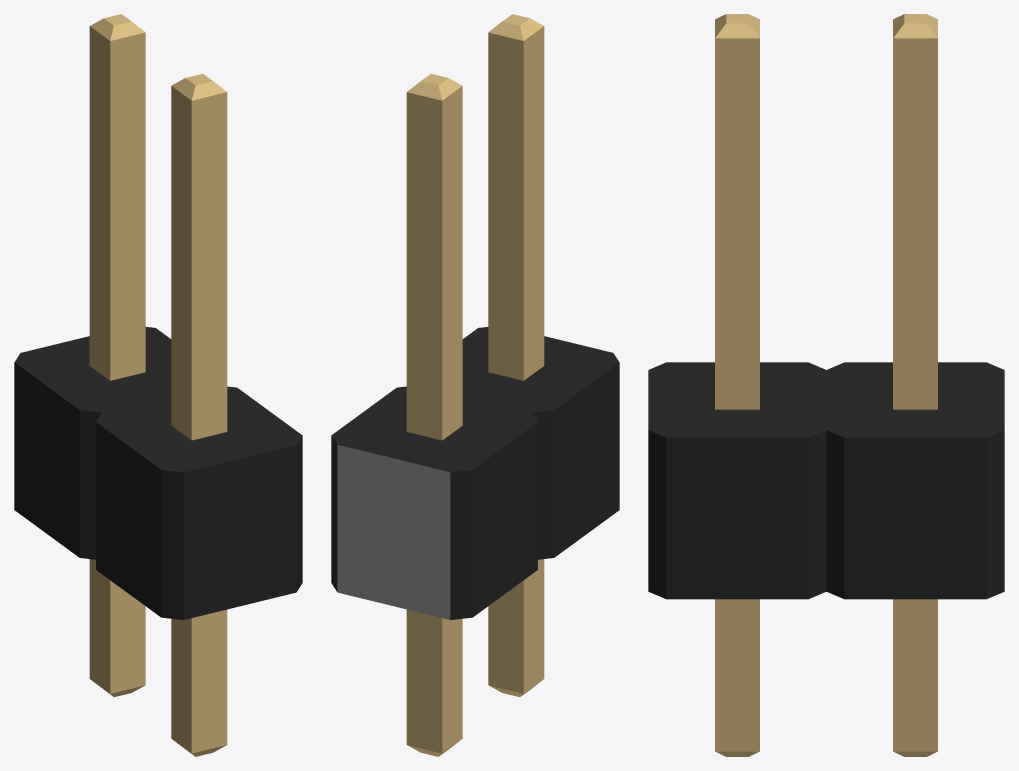
File: sfe-pinheader_1x02_p2.54mm_vertical.glb
3 views of the same model, side by side, from view 1: azimuth 30°, elevation 25°; view 2: azimuth 150°, elevation 25°; view 3: azimuth 270°, elevation 25° (orthographic). The views are drawn at different scales.
Parts seen in each view (by area): view 1: 0_0_0_0, 0.75_0.5_0.25_0.9; view 2: 0.75_0.5_0.25_0.9, 0_0_0_0, 0.3333333333333333_0.3333333333333333_0.3333333333333333_0; view 3: 0_0_0_0, 0.75_0.5_0.25_0.9.
Part boxes in pixels (left/top/right/bottom): 0_0_0_0: left=14, top=327, right=302, bottom=619; 0.75_0.5_0.25_0.9: left=89, top=14, right=227, bottom=756; 0.75_0.5_0.25_0.9: left=406, top=14, right=544, bottom=756; 0_0_0_0: left=331, top=327, right=619, bottom=619; 0.3333333333333333_0.3333333333333333_0.3333333333333333_0: left=337, top=445, right=450, bottom=619; 0_0_0_0: left=648, top=362, right=1004, bottom=599; 0.75_0.5_0.25_0.9: left=715, top=14, right=937, bottom=756.
Bounding box in the file's own units: 0.254 × 1.15 × 0.508.
